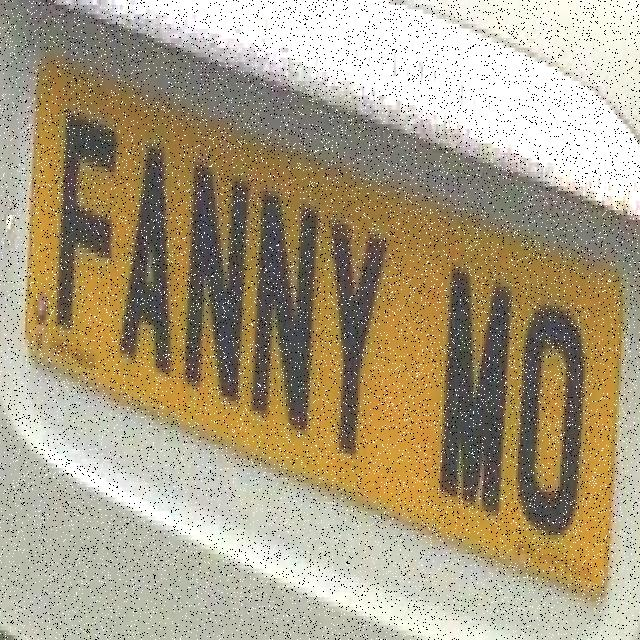licenseplate: (16, 11, 624, 623)
